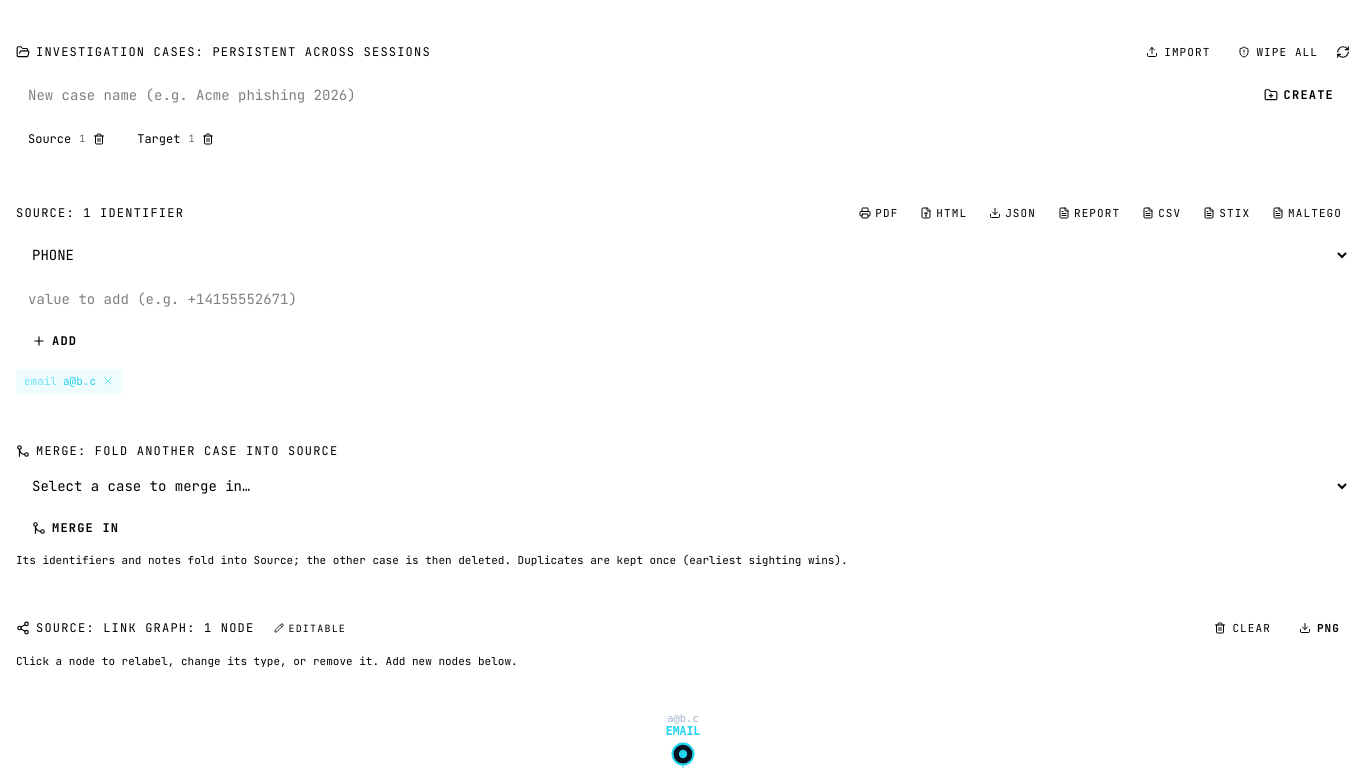
it: <CasesPanel> merge › keeps the source case when the server rejects the merge
Step 1. Click the button "Target 1" → (176, 138), box [125, 124, 226, 152]
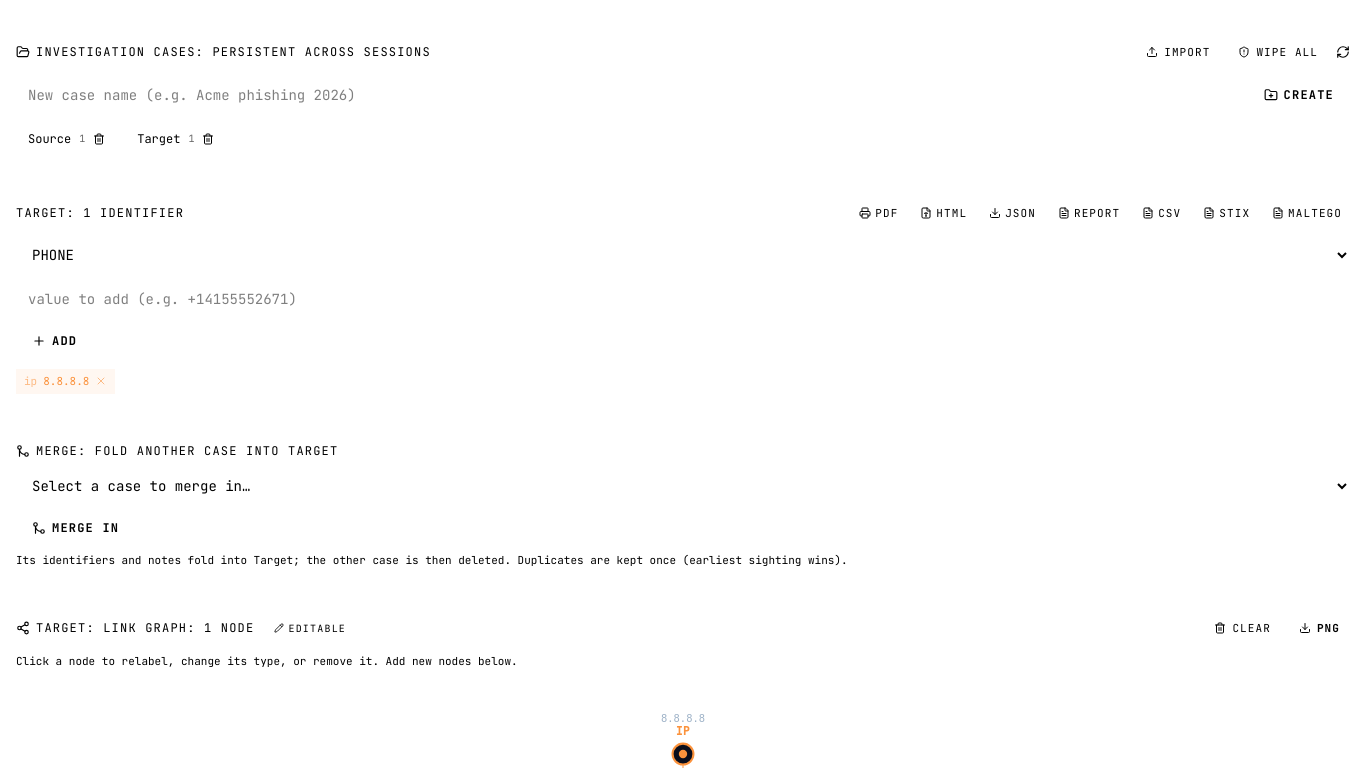
Step 2. Select "Source (1)" in the dropdown named "case to merge in" → (683, 486), box [16, 468, 1350, 504]
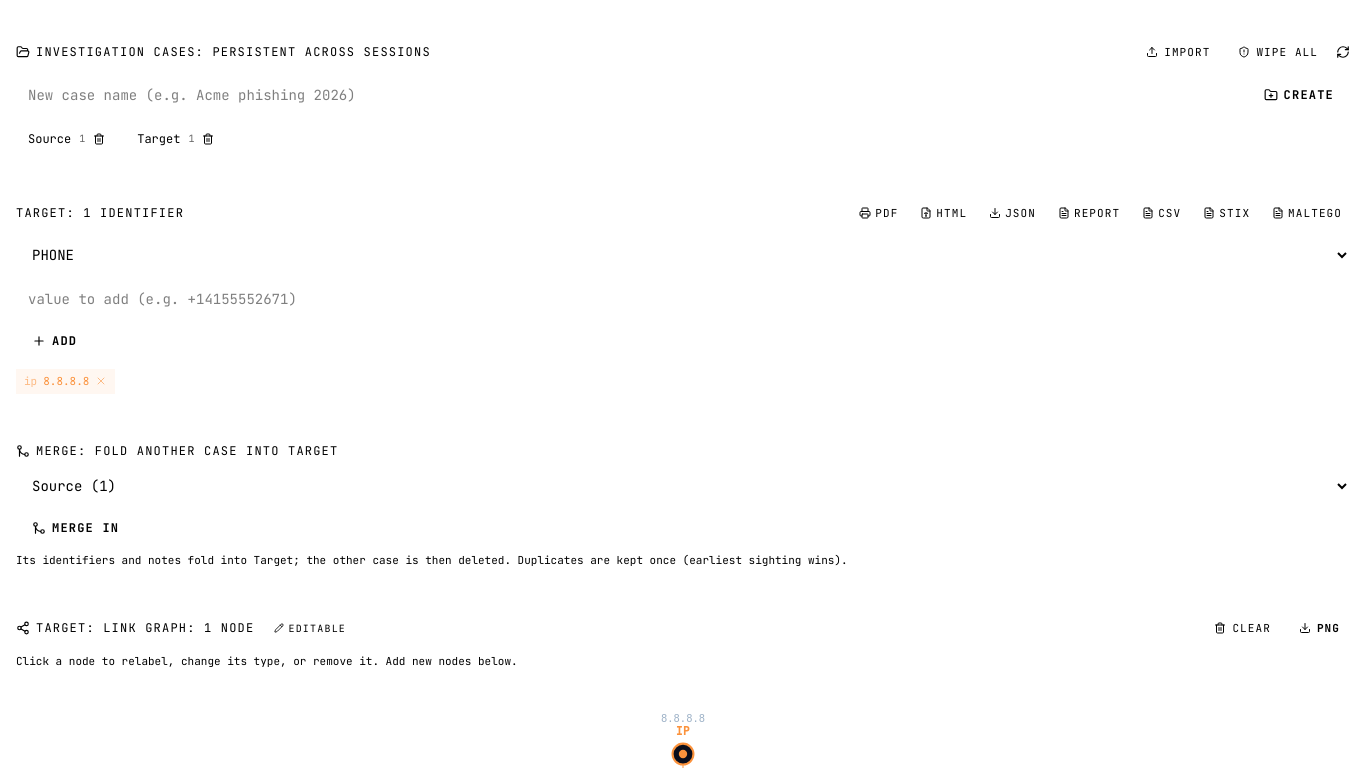
Step 3. Click the button "MERGE IN" → (86, 528), box [16, 512, 1350, 544]
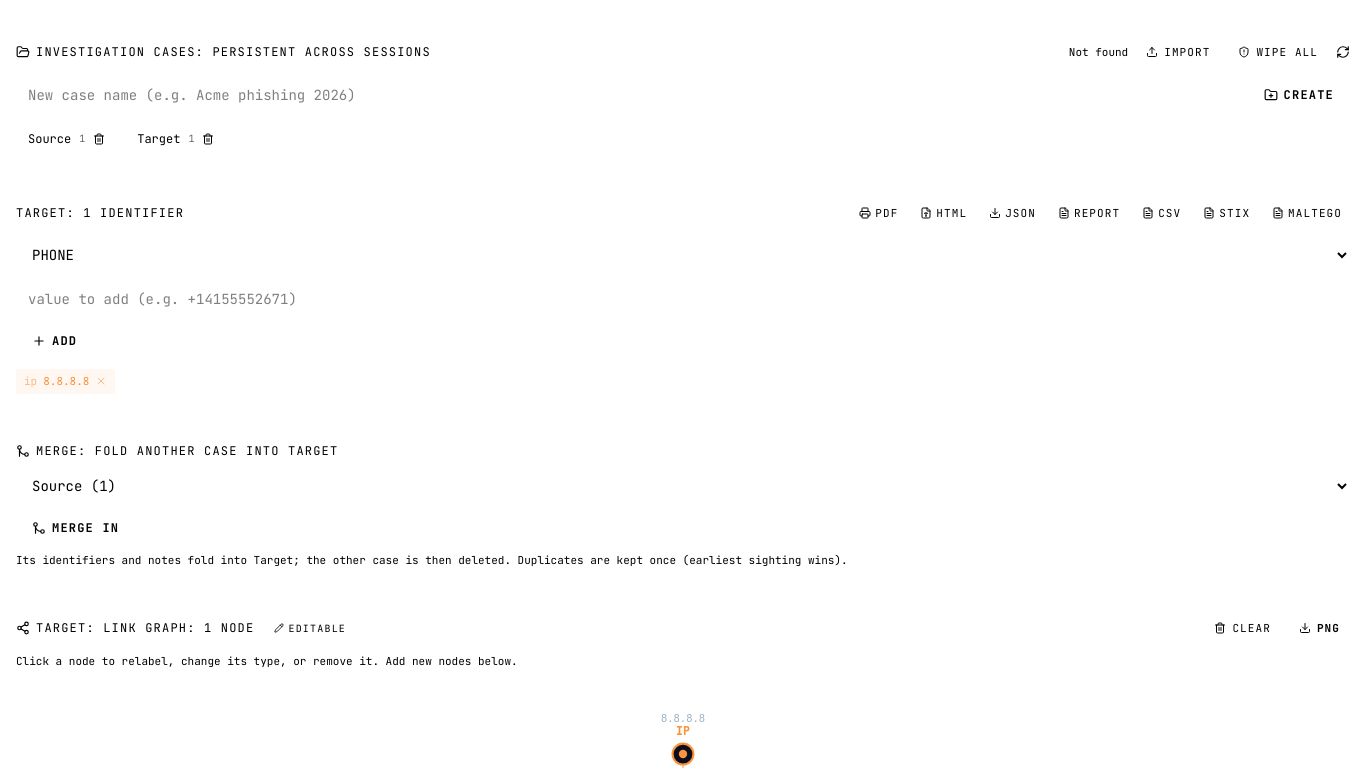
Expected: the text "Not found" is shown, [1069, 44, 1128, 60]
